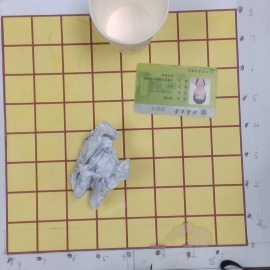card: (134, 63, 218, 116)
cup: (84, 1, 171, 58)
